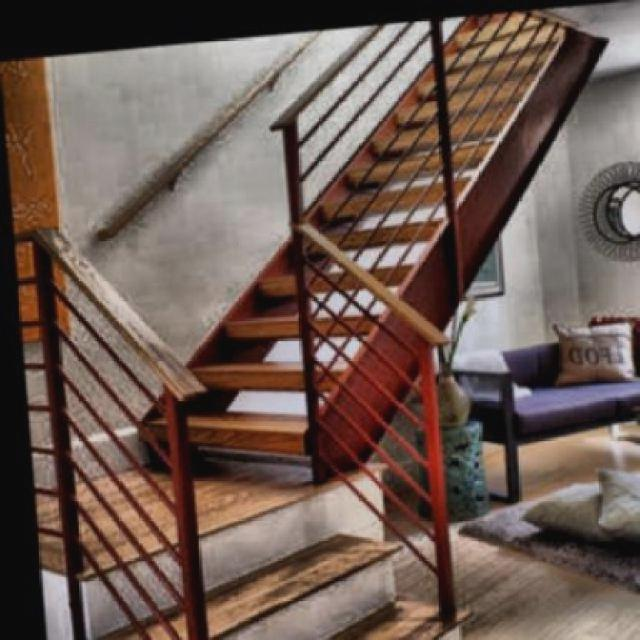stair: (82, 14, 486, 452), (58, 451, 480, 638)
